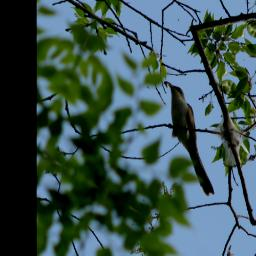Cuckoo: (135, 78, 246, 197)
